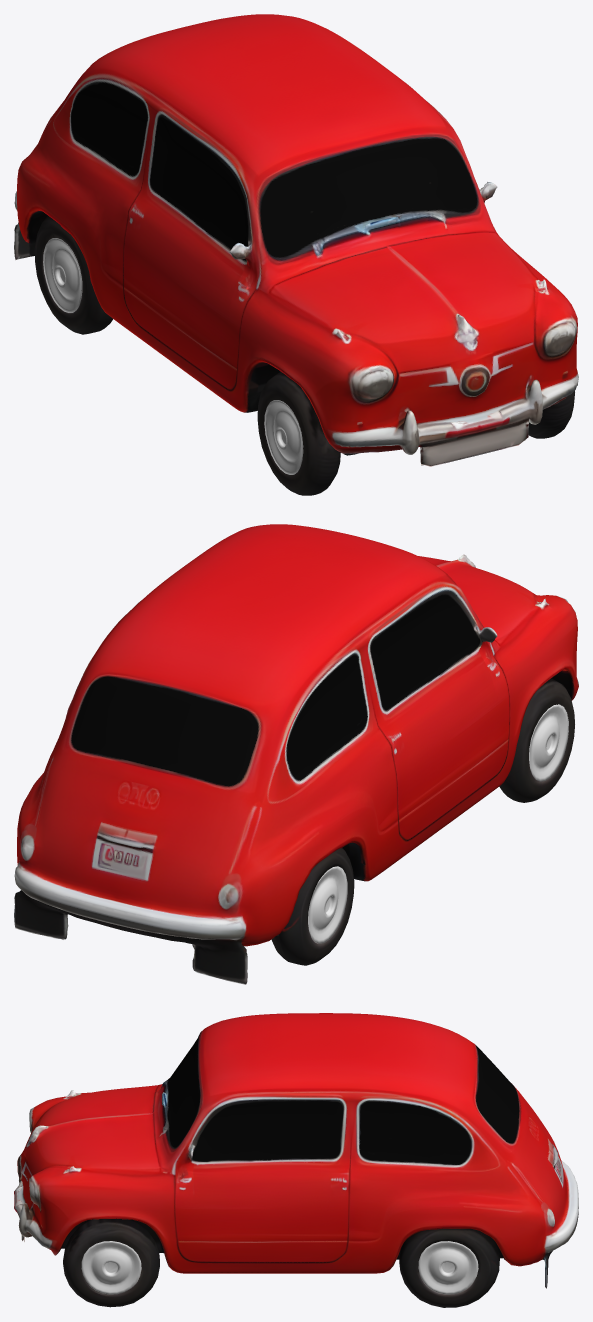
File: seat-600.fbx
3 views of the same model, one above another, from view 1: azimuth 30°, elevation 25°; view 2: azimuth 150°, elevation 25°; view 3: azimuth 270°, elevation 25° (orthographic). The views are drawn at different scales.
Visible parts, largest first — view 1: 600, 600.004, 600.002; view 2: 600, 600.002, 600.004; view 3: 600, 600.001, 600.003.
Boxes of the visible parts, x1,y1,x2,y2 form: 600: (14, 14, 578, 495); 600.004: (43, 238, 82, 312); 600.002: (264, 400, 303, 474); 600: (14, 524, 578, 984); 600.002: (529, 704, 568, 781); 600.004: (308, 866, 347, 943); 600: (14, 1013, 578, 1307); 600.001: (81, 1241, 141, 1294); 600.003: (418, 1241, 478, 1294).
Size of the model in its own units: 58.39 by 58.24 by 133.
